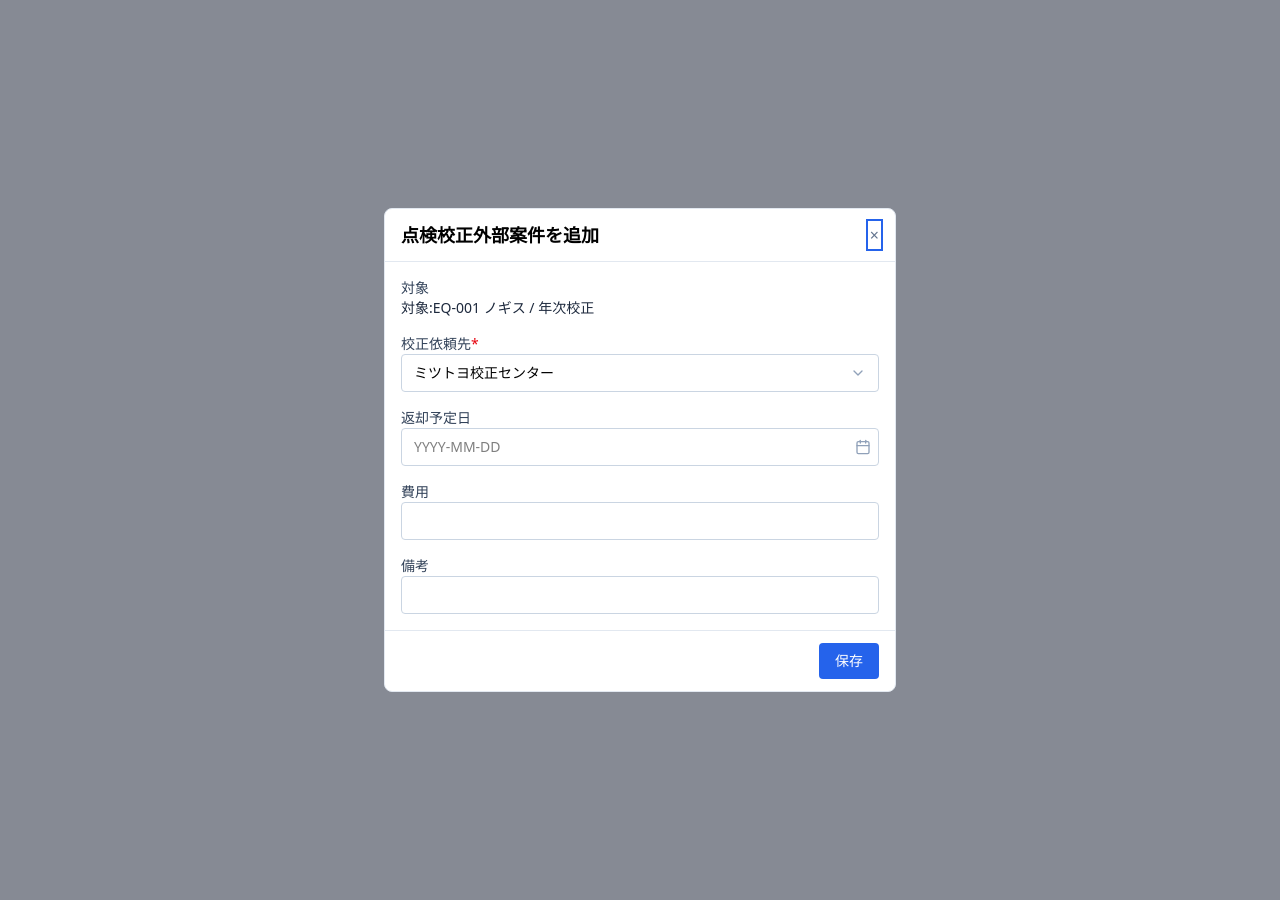
Scenario: ServiceOrderModal › 費用に負数を入力すると検証エラーが出る
Type "-100" into the number field labelled "費用" at [640, 521], box [401, 502, 879, 540]
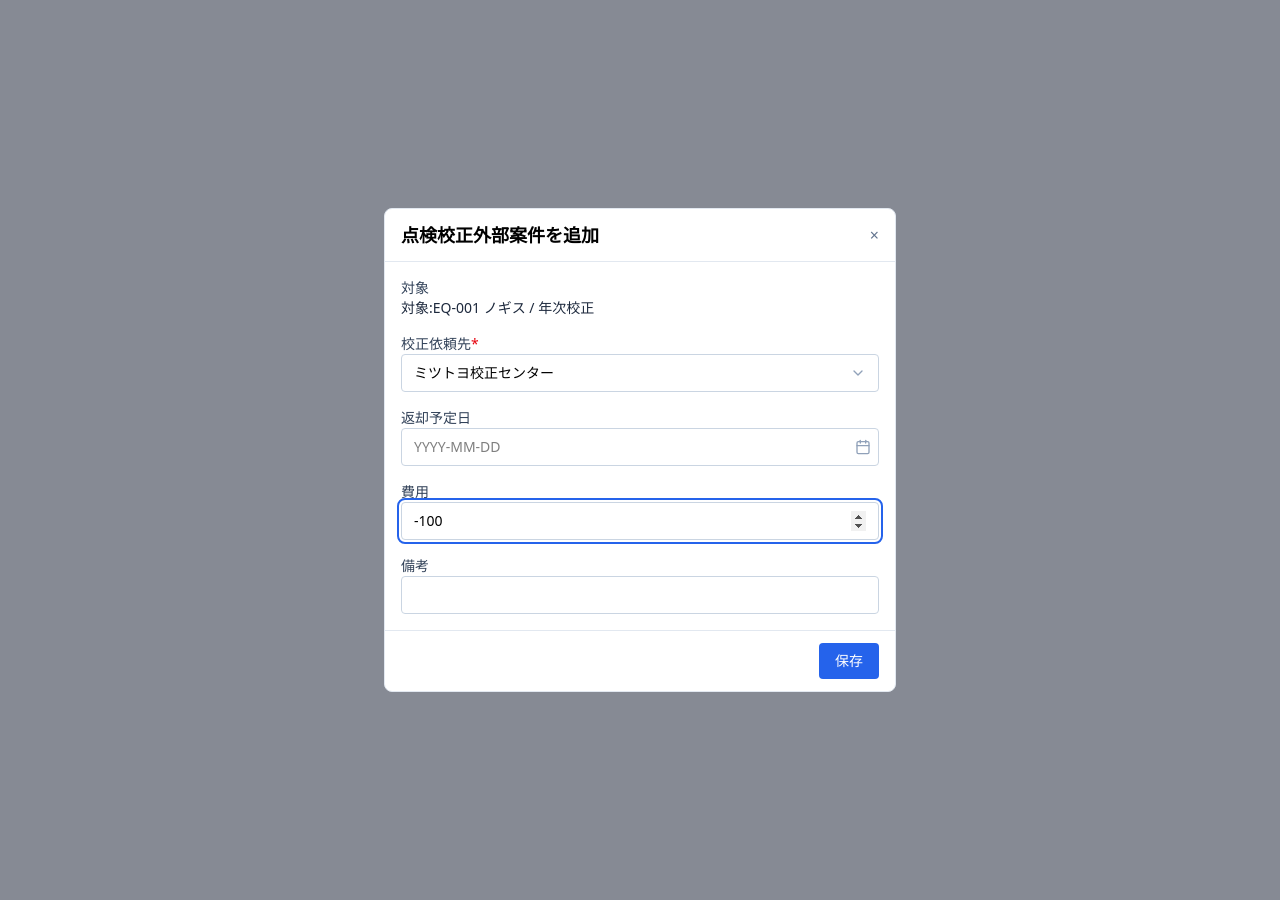
Click the button "保存" at [849, 661], box [819, 643, 879, 679]
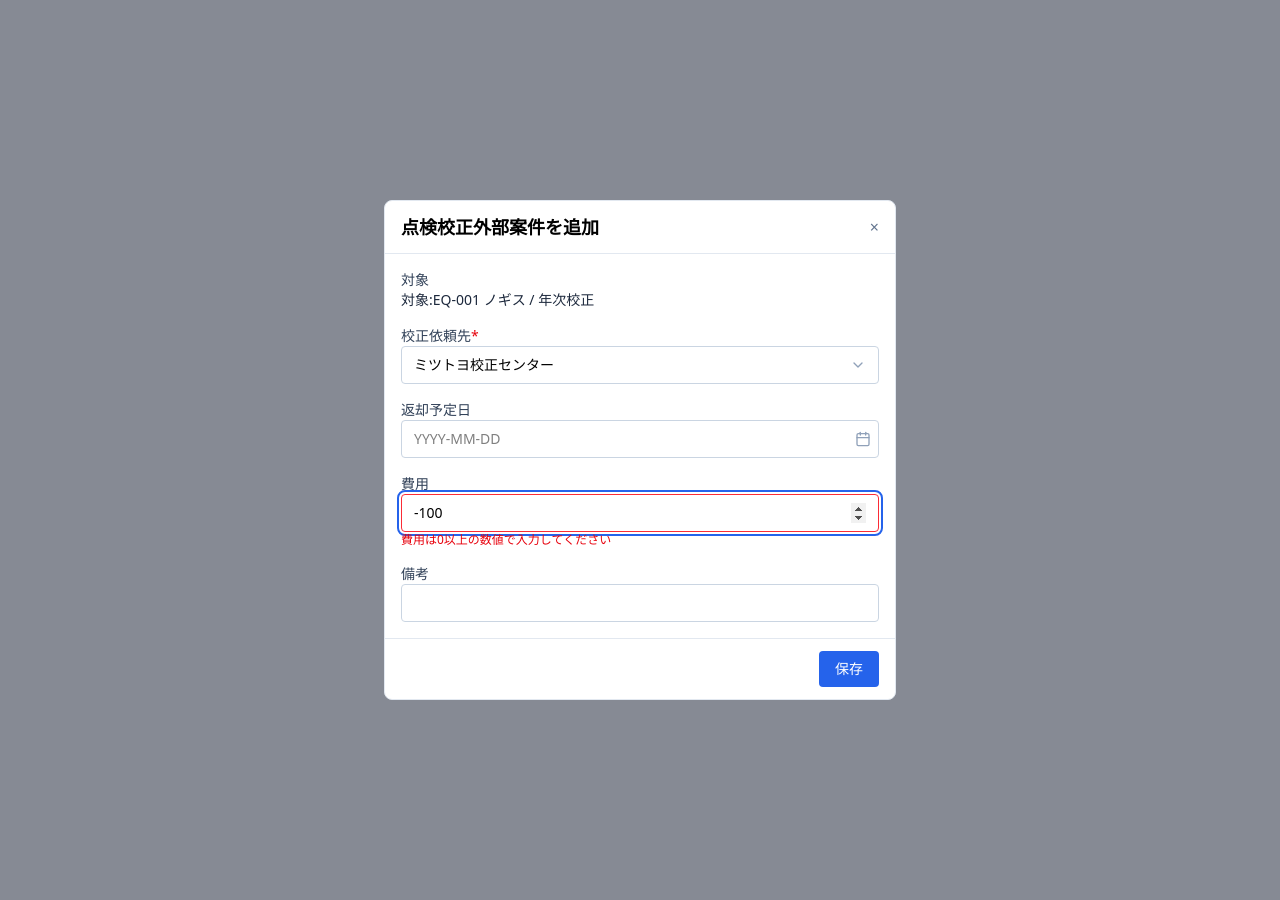
Expected: the text "費用は0以上の数値で入力してください" is shown, [401, 531, 611, 548]
